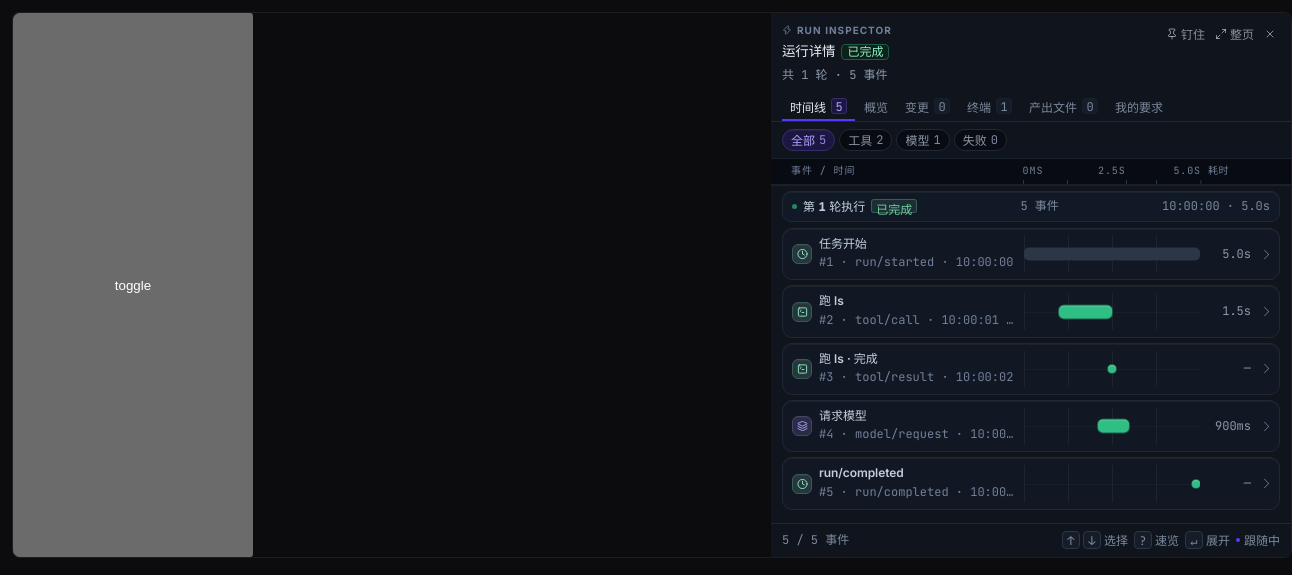
#1419 Timeline 卡片流交互 › P1-1：hover 卡片出现 tooltip（完整时间 + step）
Hover over the 2nd button with class "timeline-row" at (1031, 312), box 783,286 -> 1279,337
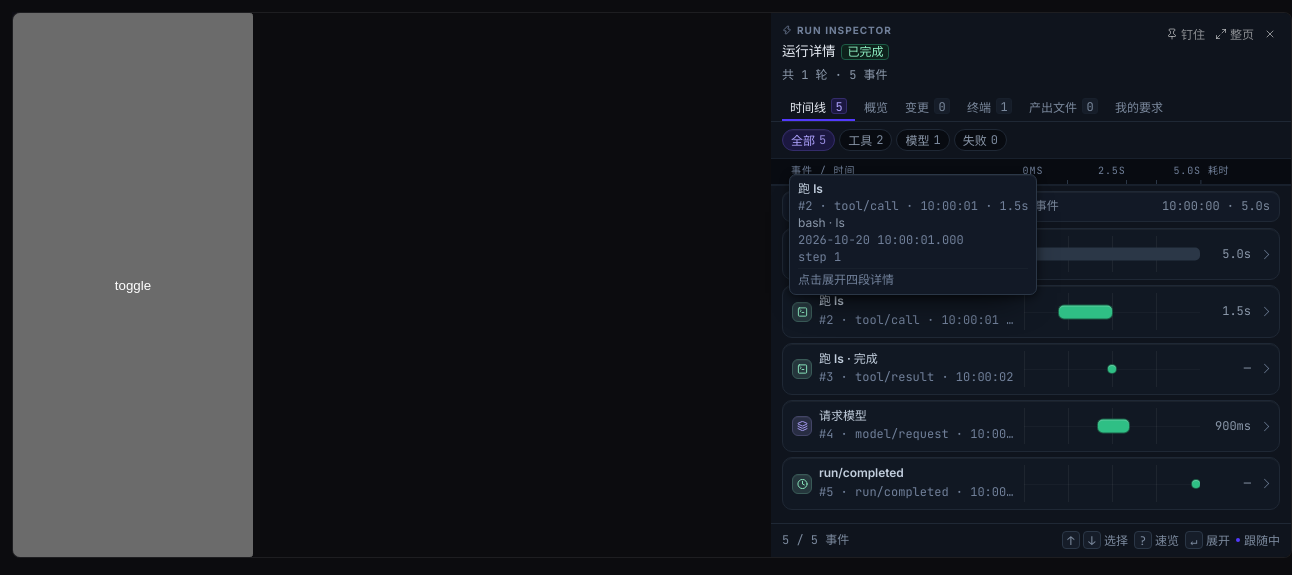
Now the tooltip with class "tl-tooltip" is shown, box 789,174 -> 1037,295
Now the tooltip with class "tl-tooltip" shows "step 1", box 798,249 -> 841,265
